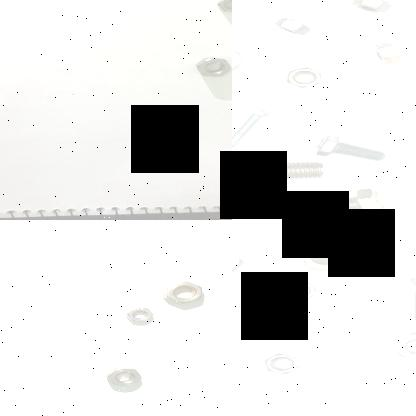Bolts: (232, 150, 329, 192), (296, 185, 394, 220), (290, 235, 359, 274), (309, 134, 389, 162), (232, 98, 274, 150), (404, 270, 416, 322)
NUTS: (260, 350, 308, 378), (270, 278, 320, 304), (366, 36, 408, 66), (282, 60, 324, 90), (272, 14, 316, 42), (346, 0, 400, 22), (104, 363, 146, 389), (162, 280, 207, 304), (388, 327, 416, 365), (194, 56, 232, 82), (120, 302, 158, 324), (232, 242, 249, 274), (232, 39, 245, 75), (216, 0, 232, 12)
